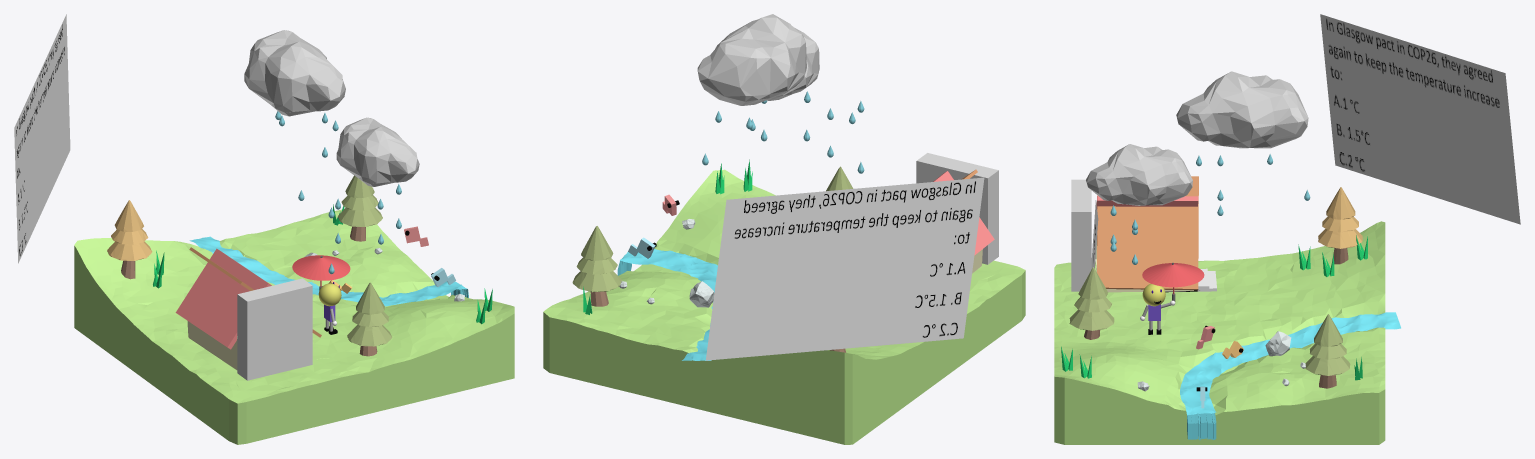
Rendered from rainQ7.glb.
3 views of the same model, side by side, from view 1: azimuth 30°, elevation 25°; view 2: azimuth 150°, elevation 25°; view 3: azimuth 270°, elevation 25° (orthographic). The views are drawn at different scales.
Visible parts, largest first — view 1: terrain, pPlane2, Cube, cloud, house:pCube6, clouds:pPlatonic1, water, umbrella:Mesh, house:pCube4, pCylinder1, trees:pCylinder8, trees:pCylinder1 (+2 smaller); view 2: terrain, pPlane2, cloud, Cube, water, clouds:pPlatonic1, trees:pCylinder1, trees:pCylinder4, trees:pCylinder3, stone:pPlatonic2, house:pCube6; view 3: terrain, pPlane2, cloud, house:pCube5, clouds:pPlatonic1, water, Cube, umbrella:Mesh, pCylinder1, trees:pCylinder8, trees:pCylinder1, trees:pCylinder7 (+7 smaller).
Boxes of the visible parts, <box> form: terrain: <box>74,209,514,444</box>; pPlane2: <box>14,14,70,263</box>; Cube: <box>237,278,312,380</box>; cloud: <box>244,30,345,116</box>; house:pCube6: <box>175,248,271,349</box>; clouds:pPlatonic1: <box>336,117,419,186</box>; water: <box>189,236,468,306</box>; umbrella:Mesh: <box>292,255,350,286</box>; house:pCube4: <box>187,321,237,369</box>; pCylinder1: <box>347,324,392,346</box>; trees:pCylinder8: <box>107,241,152,260</box>; trees:pCylinder1: <box>338,207,382,226</box>; terrain: <box>543,169,1025,444</box>; pPlane2: <box>705,177,984,360</box>; cloud: <box>697,14,806,105</box>; Cube: <box>916,153,998,264</box>; water: <box>617,249,717,360</box>; clouds:pPlatonic1: <box>767,27,819,100</box>; trees:pCylinder1: <box>572,271,622,292</box>; trees:pCylinder4: <box>581,226,613,260</box>; trees:pCylinder3: <box>576,257,617,274</box>; stone:pPlatonic2: <box>689,281,714,307</box>; house:pCube6: <box>933,171,994,255</box>; terrain: <box>1054,221,1385,444</box>; pPlane2: <box>1320,14,1520,224</box>; cloud: <box>1176,71,1308,148</box>; house:pCube5: <box>1097,176,1198,290</box>; clouds:pPlatonic1: <box>1086,144,1192,205</box>; water: <box>1180,312,1400,440</box>; Cube: <box>1071,179,1091,291</box>; umbrella:Mesh: <box>1142,263,1204,294</box>; pCylinder1: <box>1069,310,1114,330</box>; trees:pCylinder8: <box>1318,228,1362,248</box>; trees:pCylinder1: <box>1305,356,1350,375</box>; trees:pCylinder7: <box>1326,187,1355,219</box>.
Size of the model in its own units: 0.4613 by 0.3485 by 0.4738.
30 materials, 3 textured.
